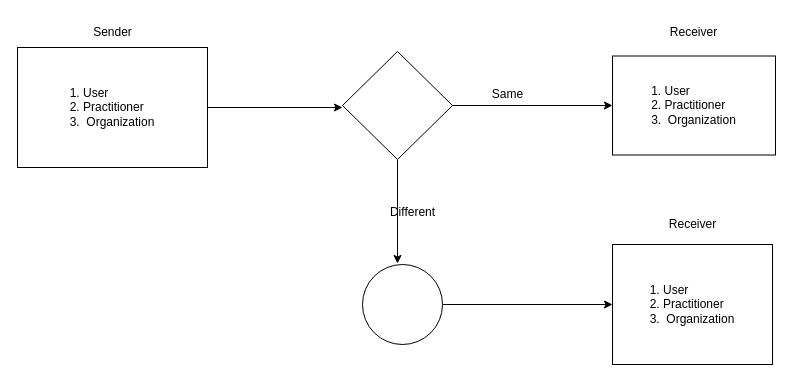
Some shapes in this 793 by 382 pixel diagram are drawn without their labels. The shapes that lost their labels are listed below. From the top down, each one's box as (x1, y1, x2, y2) in pixels, then its label:
(342, 50, 452, 160): Currency
(362, 264, 442, 344): Converter
